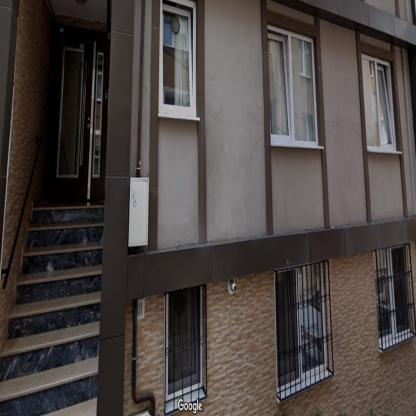door: (47, 32, 106, 201)
window: (276, 261, 325, 388), (267, 27, 316, 141), (168, 287, 201, 396), (162, 0, 194, 112), (374, 246, 410, 340), (362, 56, 394, 146)
